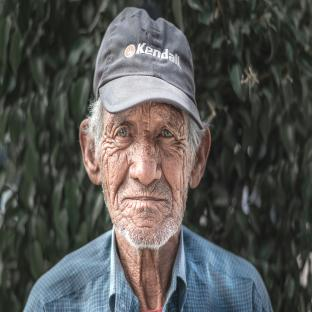Human: (25, 7, 272, 312)
